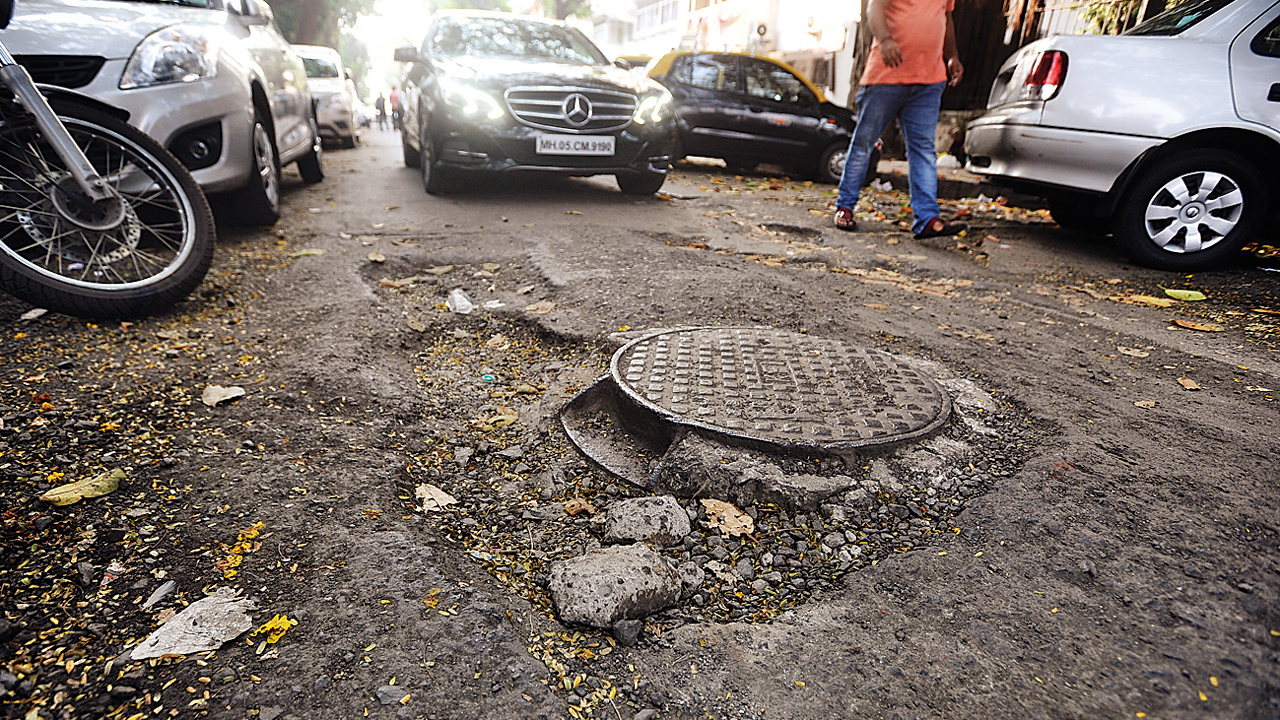pothole: (363, 237, 1026, 621)
